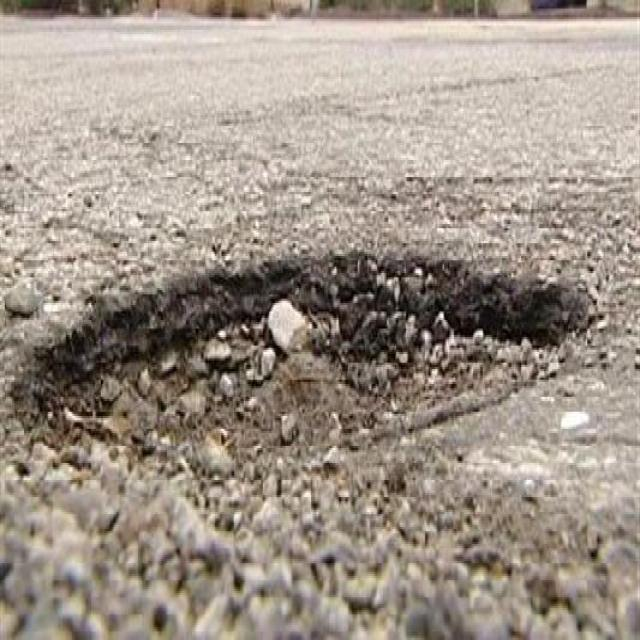Pothole: (10, 251, 597, 524)
